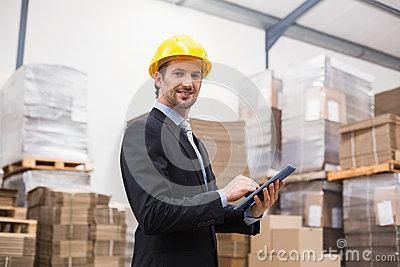helmet: (149, 35, 214, 81)
